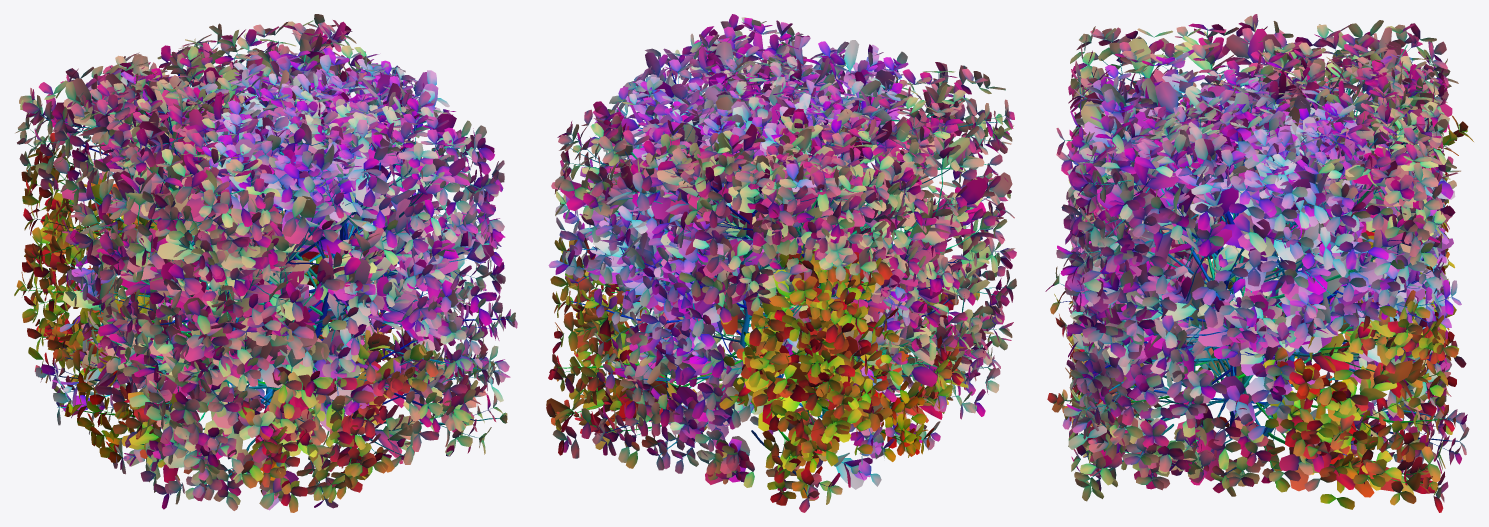
Rendered from Boxwood_wfypfa3ha_Low_wfypfa3ha_VarF_LOD0.fbx.
3 views of the same model, side by side, from view 1: azimuth 30°, elevation 25°; view 2: azimuth 150°, elevation 25°; view 3: azimuth 270°, elevation 25° (orthographic). The views are drawn at different scales.
Parts seen in each view (by area): view 1: _f3cc_VarF_LOD2; view 2: _f3cc_VarF_LOD2; view 3: _f3cc_VarF_LOD2.
Boxes of the visible parts, left/top/right/bottom form: _f3cc_VarF_LOD2: left=14, top=14, right=517, bottom=512; _f3cc_VarF_LOD2: left=546, top=14, right=1016, bottom=512; _f3cc_VarF_LOD2: left=1045, top=14, right=1473, bottom=512.
Size of the model in its own units: 62.89 by 60.28 by 64.01.
